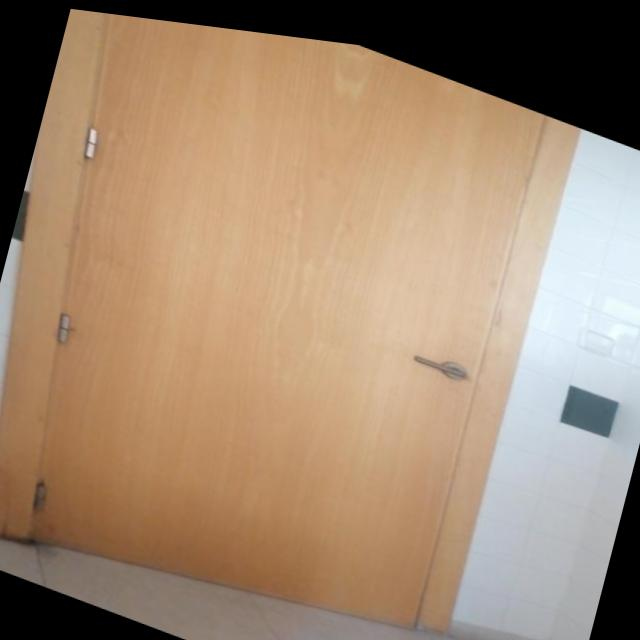door_handle: (408, 339, 471, 369)
